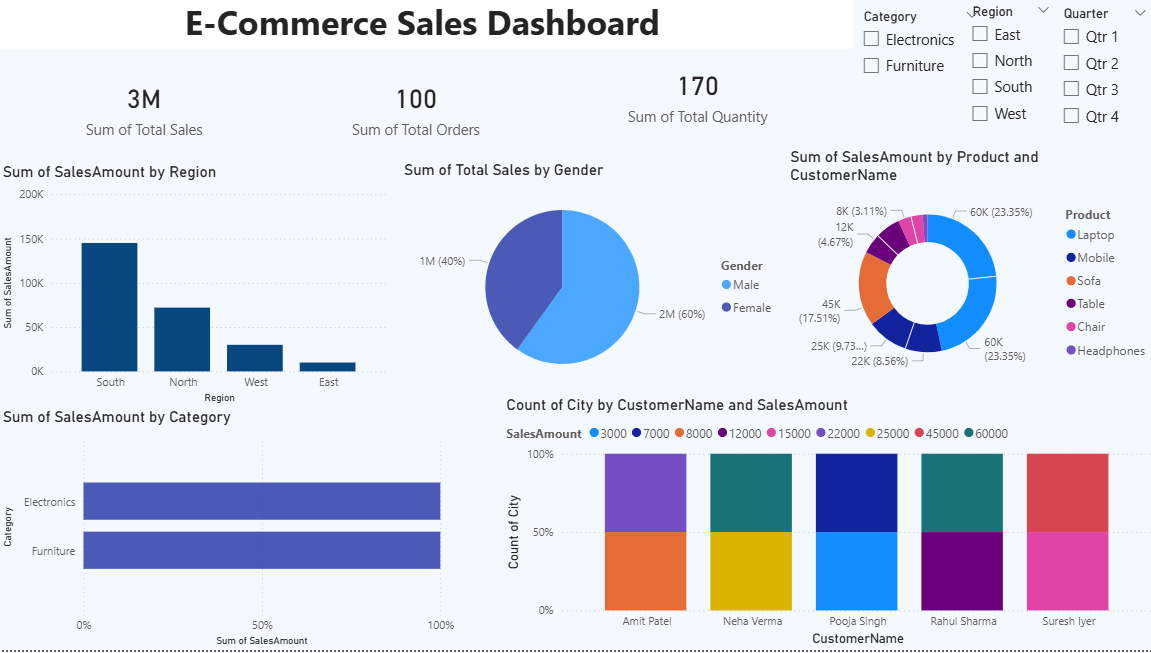

What the dashboard file says about the page in this screenshot:
{"tool":"powerbi","page":{"name":"Page 1","canvas":[1280,720],"ordinal":0},"visuals":[{"type":"hundredPercentStackedBarChart","fields":{"Category":["Sales_Data.Category"],"Y":["Sum(Sales_Data.SalesAmount)"]},"box":[7.2,453.6,505.5,266.6],"z":0},{"type":"columnChart","fields":{"Category":["Sales_Data.Region"],"Y":["Sum(Sales_Data.SalesAmount)"]},"box":[7.2,184.6,431.9,269],"z":1000},{"type":"pieChart","fields":{"Category":["Customer_Data.Gender"],"Y":["Sum(Sales_Data.Total Sales)"]},"box":[447.3,182.5,424,258],"z":2000},{"type":"hundredPercentStackedColumnChart","fields":{"Category":["Customer_Data.CustomerName"],"Y":["CountNonNull(Customer_Data.City)"],"Series":["Sales_Data.SalesAmount"]},"box":[559.9,440.5,720.4,279.9],"z":3000},{"type":"donutChart","fields":{"Category":["Sales_Data.Product"],"Series":["Customer_Data.CustomerName"],"Y":["Sum(Sales_Data.SalesAmount)"]},"box":[871.4,168.8,408.9,256.6],"z":4000},{"type":"card","fields":{"Values":["Sum(Sales_Data.Total Orders)"]},"box":[307.6,51.9,316.1,144.8],"z":5000},{"type":"card","fields":{"Values":["Sum(Sales_Data.Total Sales)"]},"box":[0,68.8,334.2,111],"z":6000},{"type":"card","fields":{"Values":["Sum(Sales_Data.Total Quantity)"]},"box":[691.3,33.8,166.5,150.8],"z":7000},{"type":"slicer","fields":{"Values":["Sales_Data.Region"]},"box":[1064.1,6,109.8,154.4],"z":8000},{"type":"slicer","fields":{"Values":["Sales_Data.Category"]},"box":[944.6,10.9,150.8,98.9],"z":9000},{"type":"slicer","fields":{"Values":["Sales_Data.OrderDate.Variation.Date Hierarchy.Quarter"]},"box":[1164.2,8.4,115.8,149.6],"z":10000},{"type":"textbox","box":[0,0,944.6,60.3],"z":11000}]}

Visuals, with their boxes in screenshot pixels (x1, y1, x2, y2), scaled from the page's 1280x720 canvas onto the 1151x653 screenshot:
hundredPercentStackedBarChart - Sales_Data.Category x Sum(Sales_Data.SalesAmount): 6:411:461:652
columnChart - Sales_Data.Region x Sum(Sales_Data.SalesAmount): 6:167:395:411
pieChart - Customer_Data.Gender x Sum(Sales_Data.Total Sales): 402:166:783:400
hundredPercentStackedColumnChart - Customer_Data.CustomerName x CountNonNull(Customer_Data.City): 503:400:1150:652
donutChart - Sales_Data.Product x Customer_Data.CustomerName: 784:153:1150:386
card - Sum(Sales_Data.Total Orders): 277:47:561:178
card - Sum(Sales_Data.Total Sales): 0:62:301:163
card - Sum(Sales_Data.Total Quantity): 622:31:771:167
slicer - Sales_Data.Region: 957:5:1056:145
slicer - Sales_Data.Category: 849:10:985:100
slicer - Sales_Data.OrderDate.Variation.Date Hierarchy.Quarter: 1047:8:1150:143
textbox: 0:0:849:55
